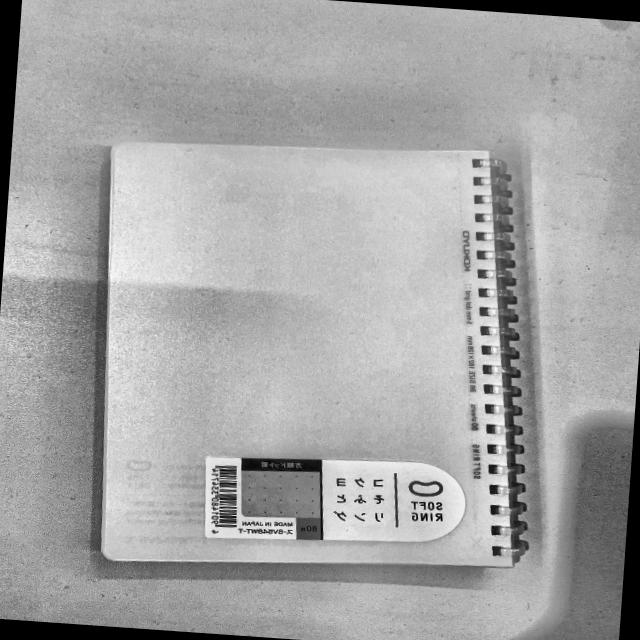Notebook: (70, 102, 566, 610)
